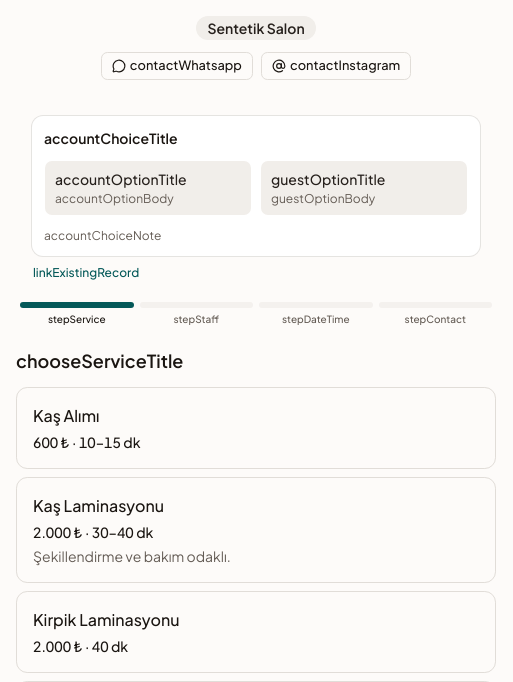
Test: one eligible person is selected automatically › two eligible people keep the normal staff choice, including 'any staff'
The image size is (513, 682).
Click the button with test id "service-card" at [66, 416], box x1=16 y1=387 x2=496 y2=469
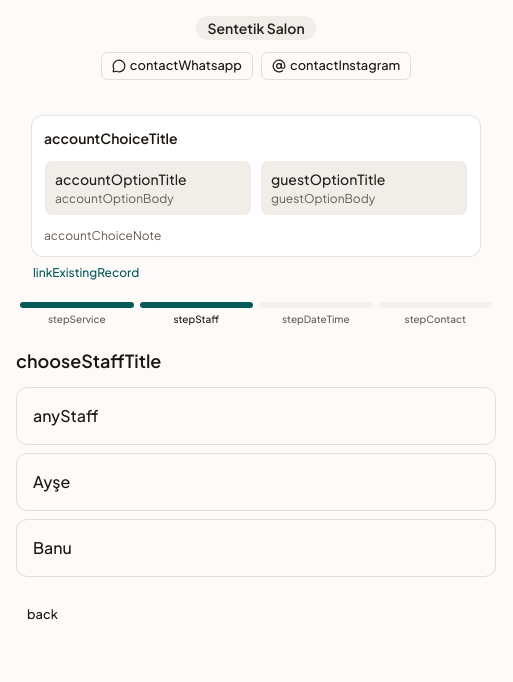
Now the heading "chooseStaffTitle" is shown, box x1=16 y1=349 x2=161 y2=372
Now the button "anyStaff" is shown, box x1=16 y1=387 x2=496 y2=445
Now the button "Ayşe" is shown, box x1=16 y1=453 x2=496 y2=511
